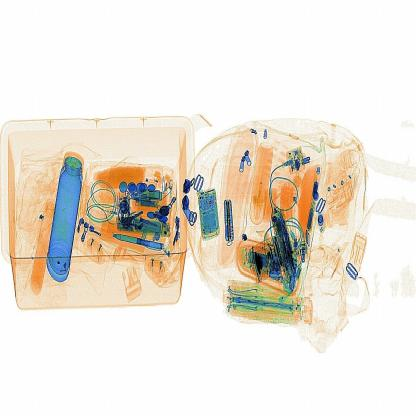scissors: (221, 193, 240, 253)
